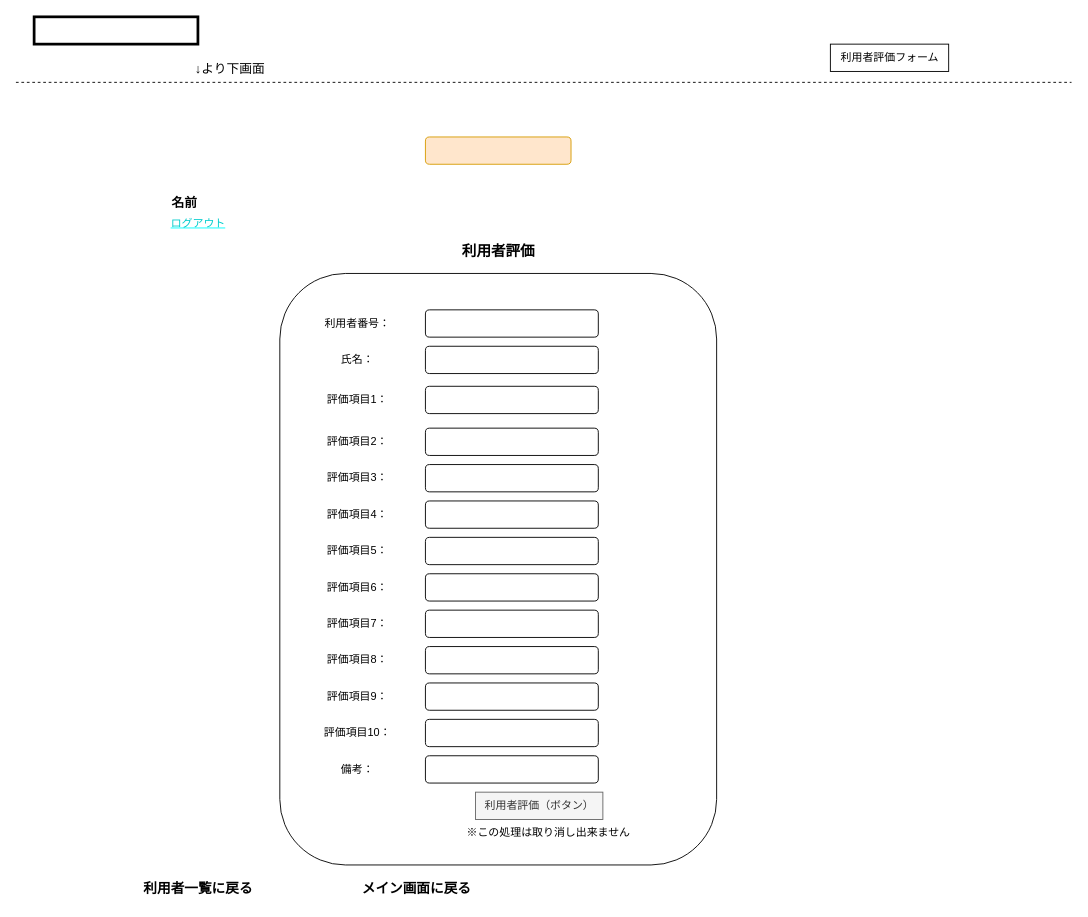
This 1088x917 diagram has some shape labels left out. Here are the shapes that lost their labels. From the top down, the centre of each, then its label:
At point 115,30: "customerEvaluation.jsp".
At point 498,150: "人事評価システム（仮）".
